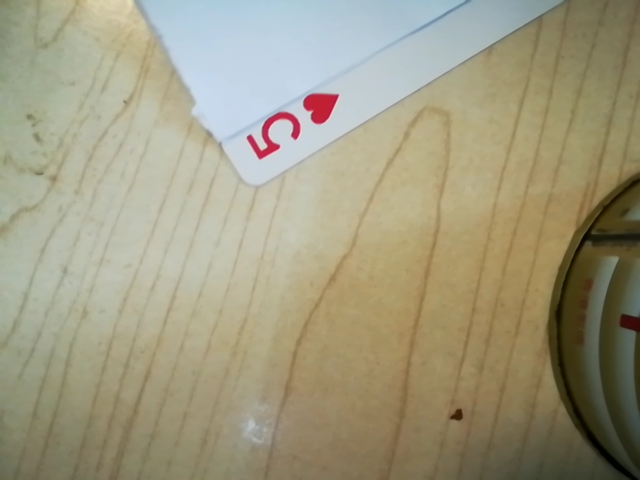hx 5: (240, 91, 340, 169)
